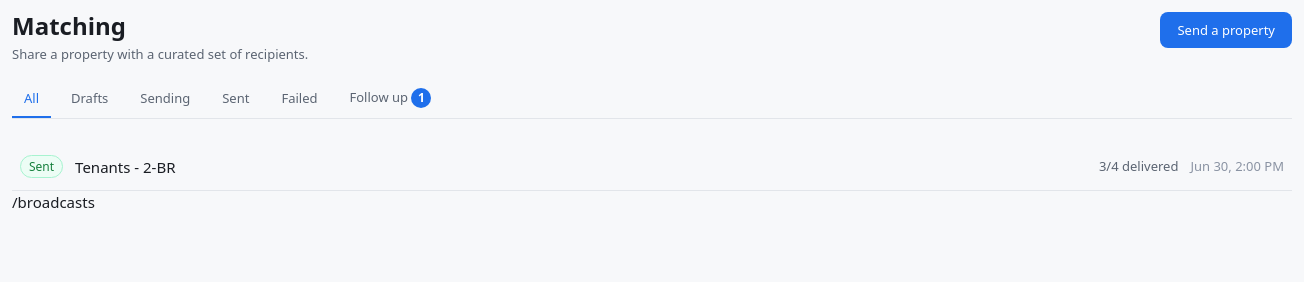
Scenario: BroadcastsList - Follow up tab (last-heard-from 5.6) › selecting Follow up writes ?tab=follow-up and shows the waiting list in the tab panel
expect the list named "Property sends" is shown: met, box [12,143,1292,192]
What coordinates should you click on to do the following:
click the tab "Follow up 1"
I would click on:
 (390, 99)
Its box is [338,80,444,118].
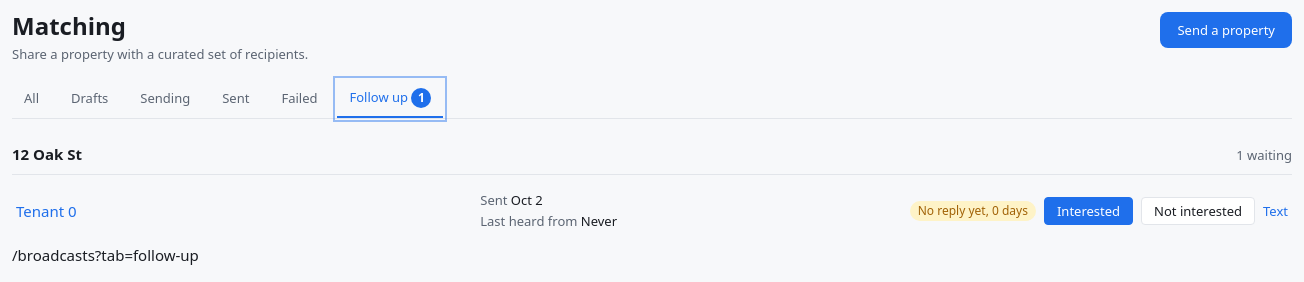
expect the text with test id "path" reads "/broadcasts?tab=follow-up": met, box [12,245,199,265]
expect the heading "12 Oak St 1 waiting" is shown: met, box [12,143,1292,175]
